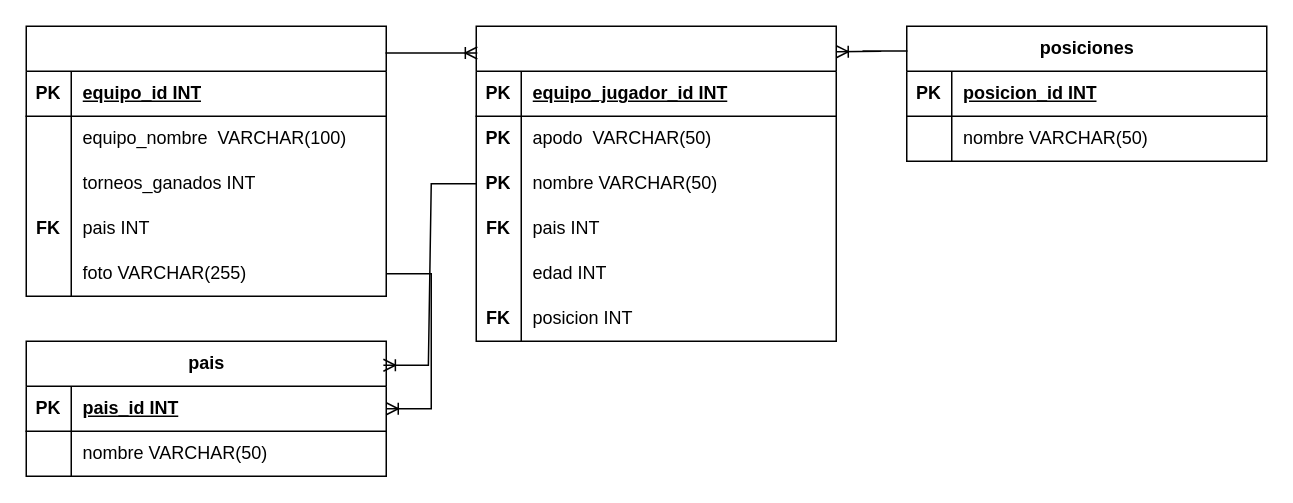
Image size: 1293x503. Some labels were removed from this diagram. The shapes that lost their labels are listed below. From the top down, each one's box as (x1, y1, x2, y2) in pixels, then its label:
(25, 25, 386, 296): equipos_torneo
(475, 25, 836, 341): jugadores
